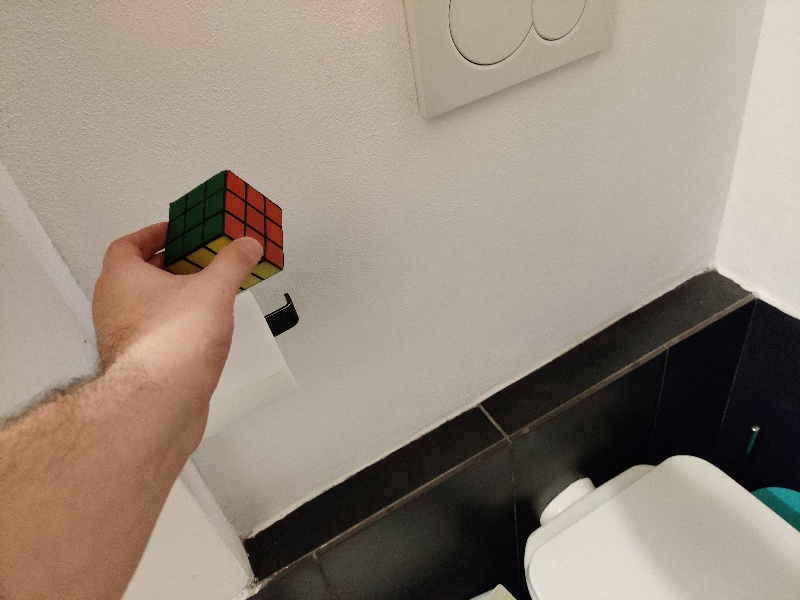rubik: (170, 170, 285, 295)
